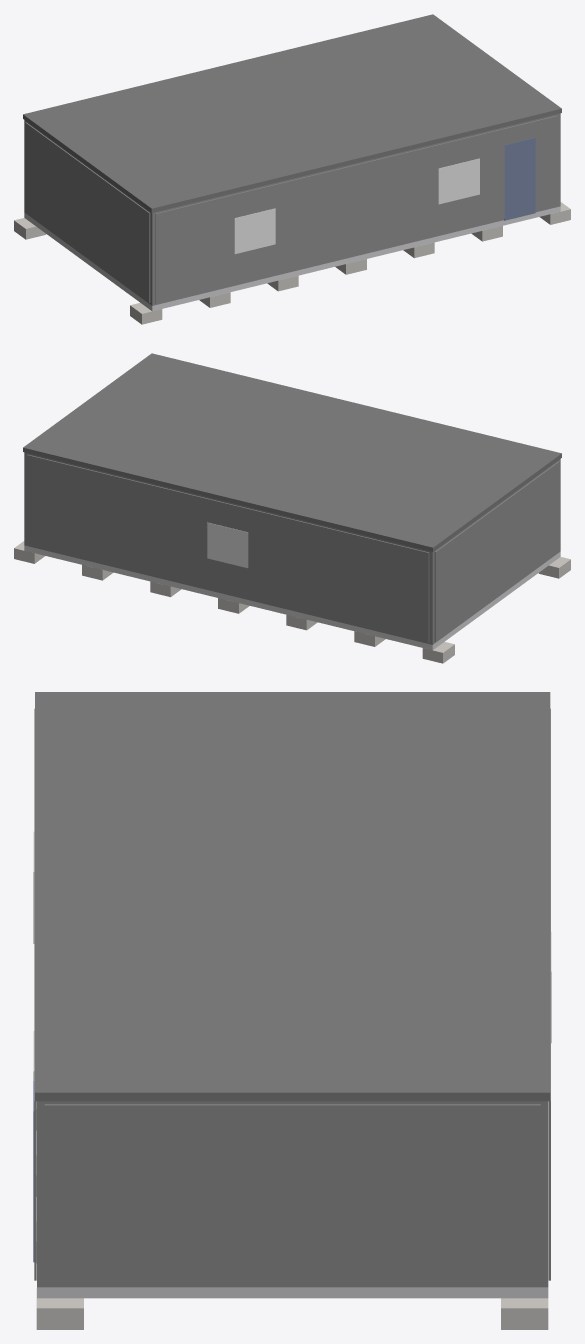
File: Studio-40-Base-AntiqueWallGrey-LOD2.glb
The picture shows the model from 3 angles, top to bottom: view 1: azimuth 30°, elevation 25°; view 2: azimuth 150°, elevation 25°; view 3: azimuth 270°, elevation 25°; orthographic projection. The views are drawn at different scales.
Parts seen in each view (by area): view 1: RoofMain, ExteriorPanelsStandard, BaseFrame, WindowsStandard, ExteriorShell, FoundationBlocks, EntryDoor; view 2: RoofMain, ExteriorPanelsStandard, BaseFrame, ExteriorShell, FoundationBlocks, WindowsStandard; view 3: RoofMain, ExteriorPanelsStandard, ExteriorShell, BaseFrame, FoundationBlocks.
Part boxes in pixels (bbox=[...]): RoofMain: bbox=[23, 14, 561, 212]; ExteriorPanelsStandard: bbox=[25, 115, 557, 303]; BaseFrame: bbox=[24, 206, 560, 311]; WindowsStandard: bbox=[234, 158, 479, 254]; ExteriorShell: bbox=[24, 113, 560, 305]; FoundationBlocks: bbox=[14, 202, 570, 324]; EntryDoor: bbox=[504, 137, 535, 220]; RoofMain: bbox=[23, 353, 561, 551]; ExteriorPanelsStandard: bbox=[27, 454, 559, 642]; BaseFrame: bbox=[24, 545, 560, 650]; ExteriorShell: bbox=[24, 452, 560, 644]; FoundationBlocks: bbox=[14, 541, 570, 663]; WindowsStandard: bbox=[207, 522, 248, 568]; RoofMain: bbox=[35, 692, 550, 1101]; ExteriorPanelsStandard: bbox=[34, 708, 550, 1284]; ExteriorShell: bbox=[37, 1101, 548, 1287]; BaseFrame: bbox=[37, 1287, 548, 1298]; FoundationBlocks: bbox=[36, 1101, 548, 1329].
Size of the model in its own units: 12.49 by 3.17 by 6.53.
